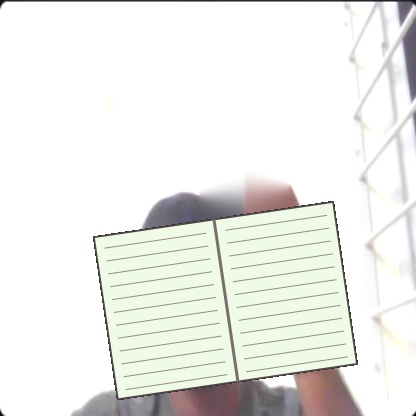book: (93, 201, 358, 400)
